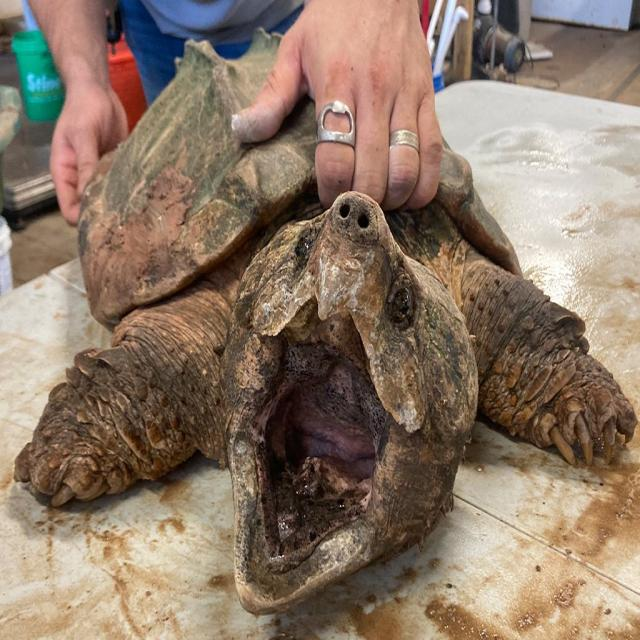turtle: (172, 138, 474, 608)
